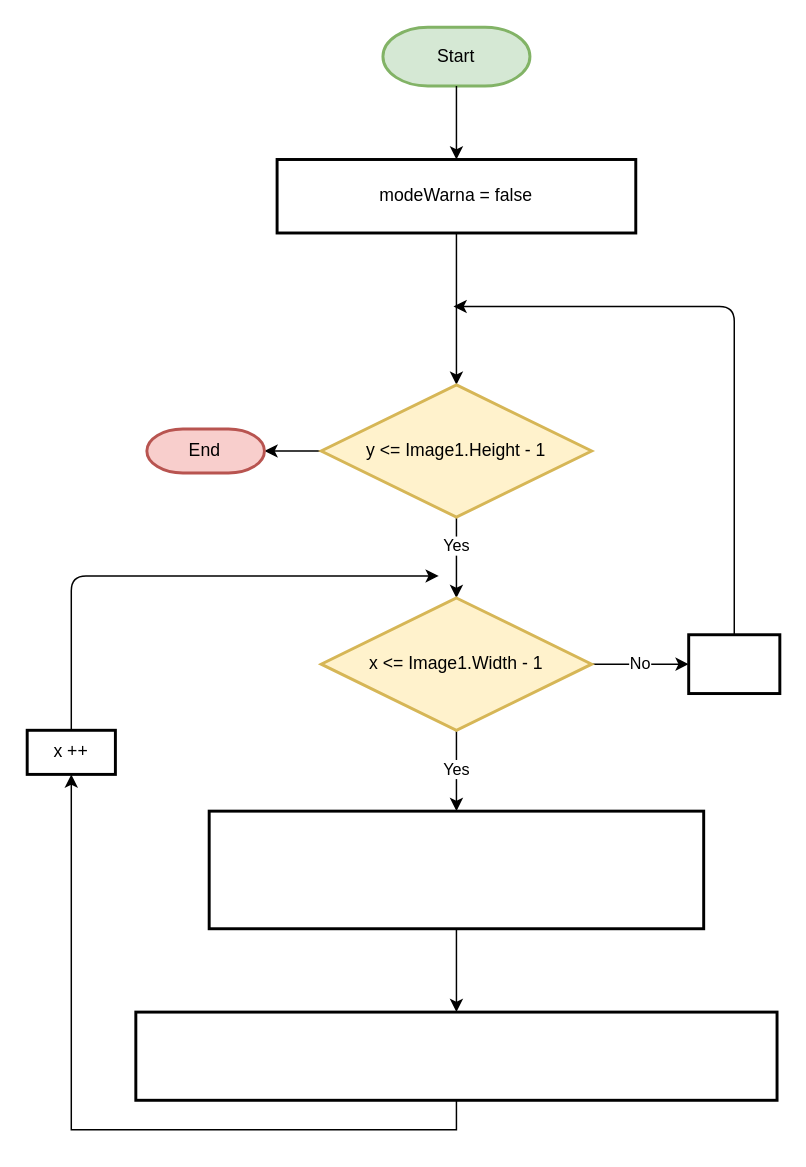
The diagram is 806 pixels wide and 1167 high, and some of its shapes have lost their labels. Each missing label, with the centre of its shape:
"gray = (bitmapR[x,y] + bitmapG[x,y] + bitmapB[x,y]) div 3" belongs at pixel 455 869.
"Image1.Canvas.Pixels[x,y] := RGB(gray, gray, gray)" belongs at pixel 456 1055.
"y ++" belongs at pixel 733 663.
